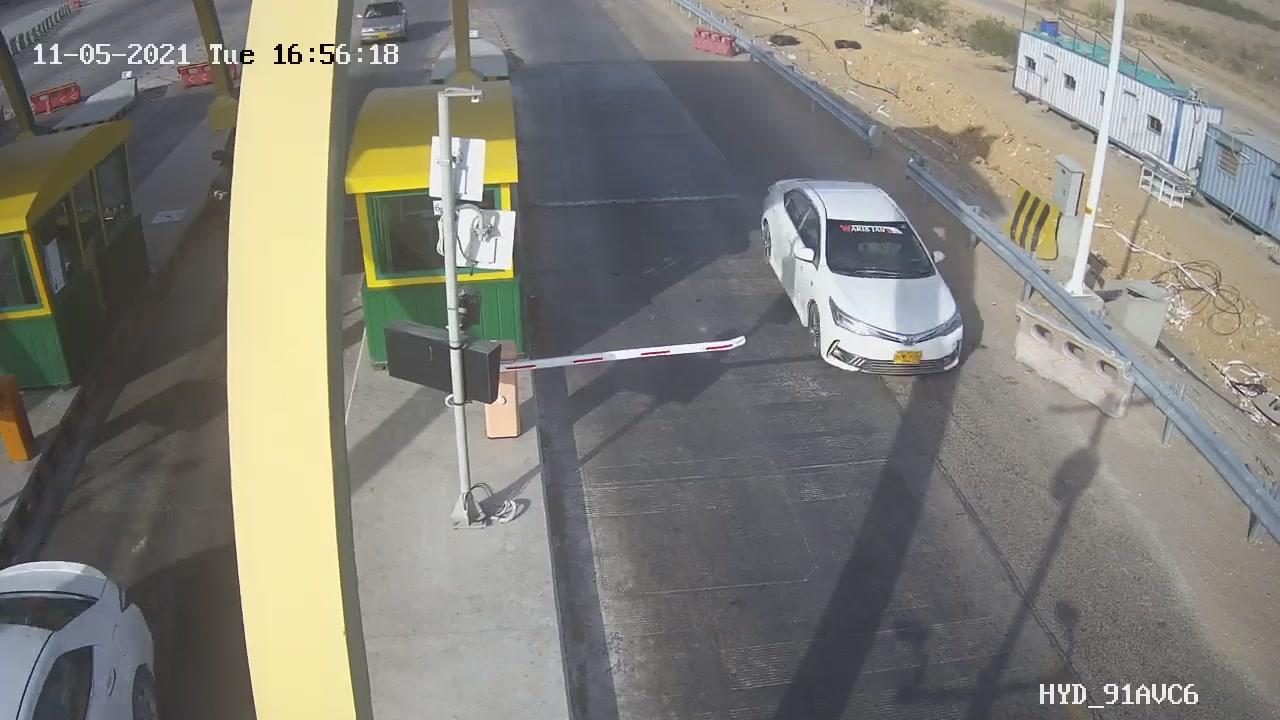F1: (744, 160, 991, 395)
